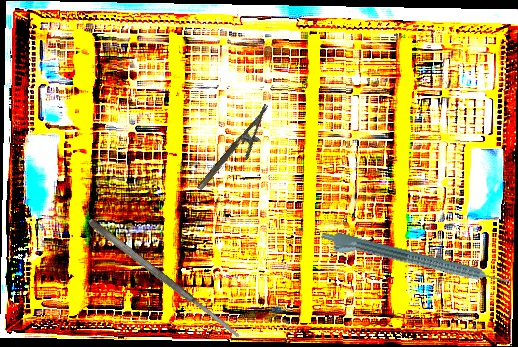Handpiece: (317, 227, 512, 297)
Needle Holder: (195, 103, 283, 201)
Spatula Surgical: (86, 216, 243, 342)
